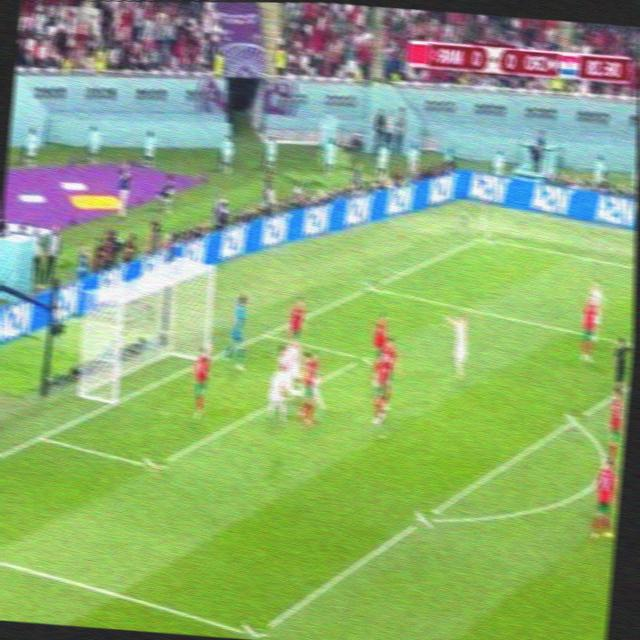bigarea_bottom_inner: (240, 614, 270, 640)
bigarea_top_outter: (360, 275, 382, 296)
bottom_arc_area_intersection: (412, 502, 437, 532)
corner: (472, 229, 496, 246)
smallarea_bottom_inner: (140, 448, 169, 483)
smallarea_bottom_outter: (30, 422, 54, 450)
smallarea_top_inner: (352, 345, 374, 369)
smallarea_top_outter: (255, 321, 276, 345)
top_arc_area_intersection: (562, 409, 584, 431)
